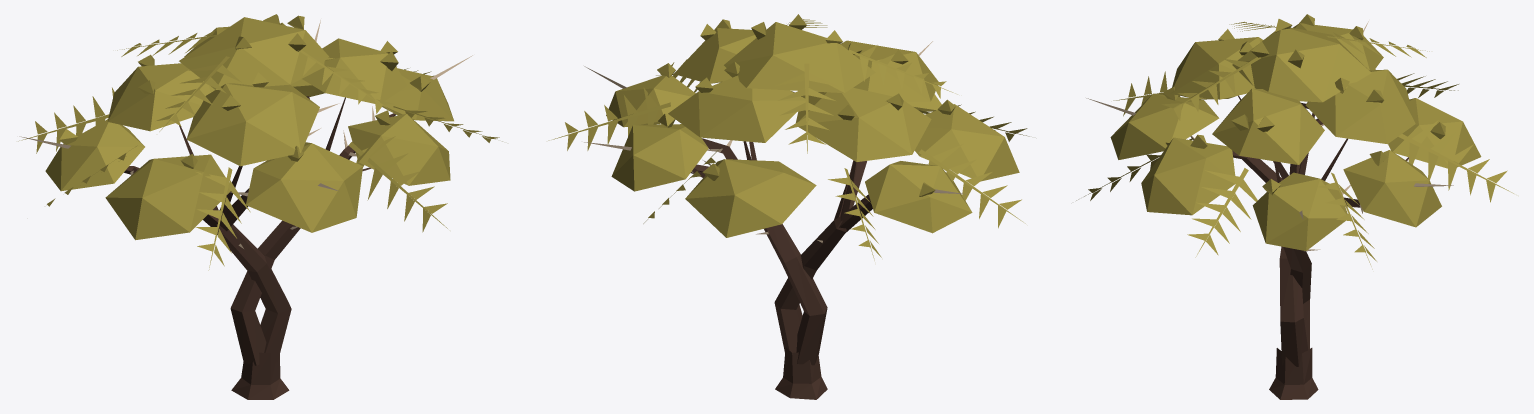
Rendered from espino-cd3edd.glb.
The picture shows the model from 3 angles, left to right: view 1: azimuth 30°, elevation 25°; view 2: azimuth 150°, elevation 25°; view 3: azimuth 270°, elevation 25°; orthographic projection.
Visible parts, largest first — view 1: crown-mesh, trunk; view 2: crown-mesh, trunk; view 3: crown-mesh, trunk.
Part boxes in pixels (x1,y1,x2,y2): crown-mesh: (18, 14, 502, 270); trunk: (214, 220, 300, 399); crown-mesh: (548, 14, 1029, 260); trunk: (756, 216, 846, 399); crown-mesh: (1076, 14, 1513, 269); trunk: (1269, 246, 1320, 399).
Bounding box in the file's own units: 4.6 × 3.54 × 4.03.
